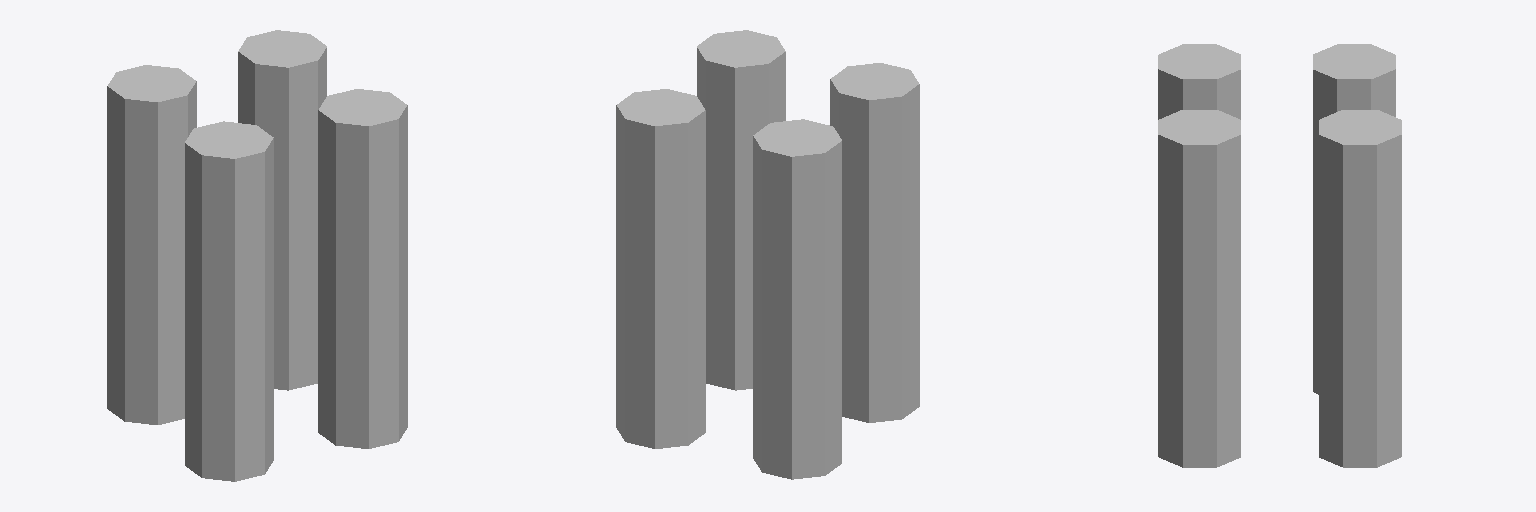
The model's file is mk2rod.obj.
The picture shows the model from 3 angles: view 1: azimuth 30°, elevation 25°; view 2: azimuth 150°, elevation 25°; view 3: azimuth 270°, elevation 25°; orthographic projection.
Parts seen in each view (by area): view 1: rod1, rod0, rod3, rod2; view 2: rod2, rod3, rod0, rod1; view 3: rod1, rod2, rod3, rod0.
Boxes of the visible parts, <box> form: rod1: <box>318,89,407,448</box>; rod0: <box>185,121,273,481</box>; rod3: <box>107,65,196,424</box>; rod2: <box>238,30,326,390</box>; rod2: <box>616,89,705,448</box>; rod3: <box>753,119,841,479</box>; rod0: <box>830,63,919,422</box>; rod1: <box>697,30,785,390</box>; rod1: <box>1158,110,1240,467</box>; rod2: <box>1319,110,1401,467</box>; rod3: <box>1313,44,1395,394</box>; rod0: <box>1158,44,1240,119</box>.
Bounding box in the file's own units: 0.625 × 0.9375 × 0.6406.